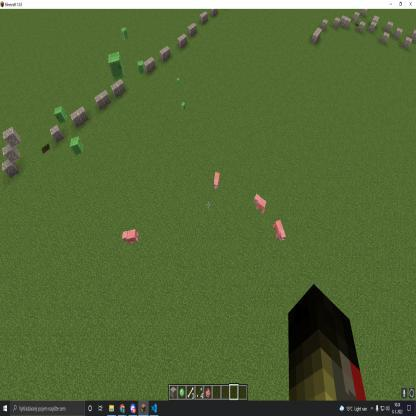pig: (118, 228, 144, 248), (250, 189, 268, 216), (272, 216, 286, 244), (212, 168, 222, 194)
